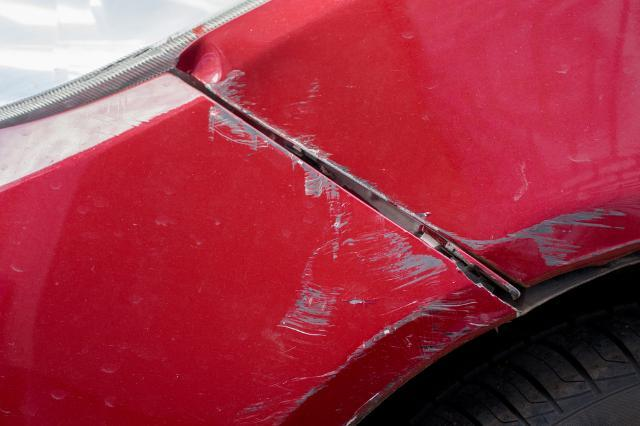dent: (175, 38, 232, 86)
scratch: (198, 103, 509, 426), (460, 206, 640, 271)
